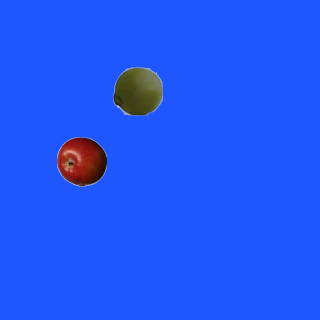Apple Braeburn: (56, 136, 106, 186)
Grape White 4: (112, 65, 162, 115)
